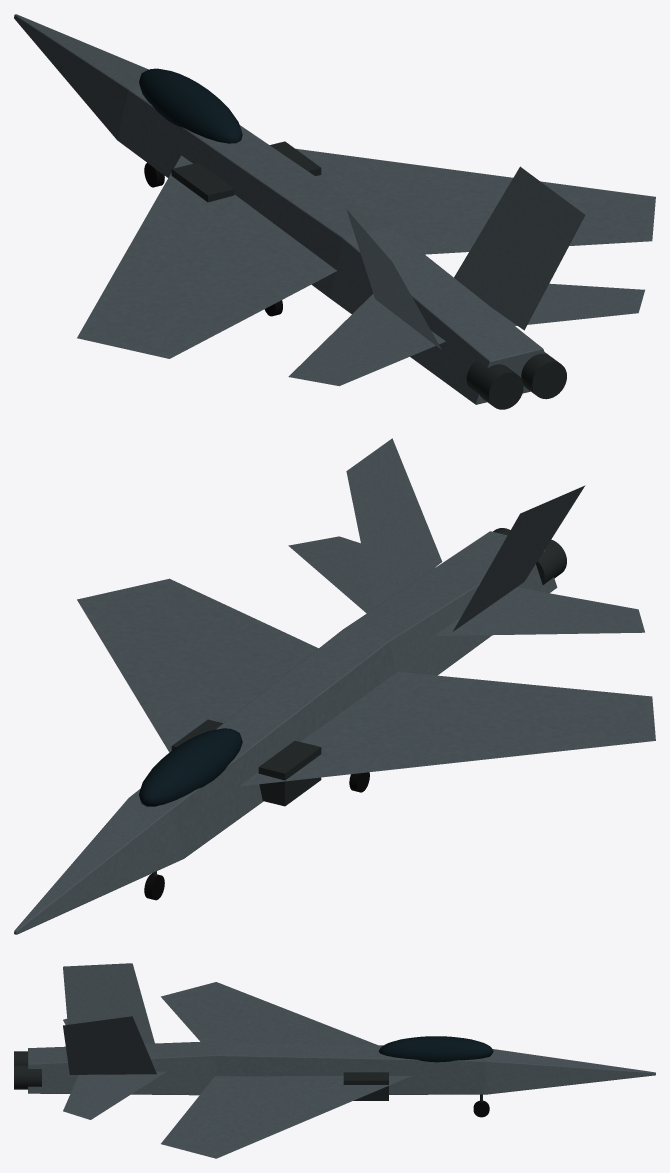
The picture shows the model from 3 angles, top to bottom: view 1: azimuth 30°, elevation 25°; view 2: azimuth 150°, elevation 25°; view 3: azimuth 270°, elevation 25°; orthographic projection. The views are drawn at different scales.
Parts seen in each view (by area): view 1: Hull_MVP gray paint, Hull_MVP exposed metal, Hull_MVP optical glass; view 2: Hull_MVP gray paint, Hull_MVP optical glass, Hull_MVP exposed metal, RunningGear_MVP rubber; view 3: Hull_MVP gray paint, Hull_MVP optical glass, Hull_MVP exposed metal.
Boxes of the visible parts, <box> form: Hull_MVP gray paint: <box>14,14,655,404</box>; Hull_MVP exposed metal: <box>171,141,566,409</box>; Hull_MVP optical glass: <box>139,68,242,143</box>; Hull_MVP gray paint: <box>14,438,655,934</box>; Hull_MVP optical glass: <box>139,728,242,806</box>; Hull_MVP exposed metal: <box>171,528,566,806</box>; RunningGear_MVP rubber: <box>144,772,369,900</box>; Hull_MVP gray paint: <box>28,963,655,1158</box>; Hull_MVP optical glass: <box>378,1036,493,1062</box>; Hull_MVP exposed metal: <box>14,1051,388,1100</box>.
Bounding box in the file's own units: 12 × 4 × 18.4.
4 materials, 4 textured.
